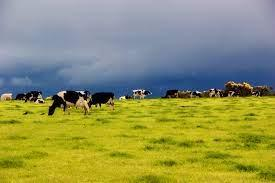cow: (48, 91, 91, 116), (87, 92, 115, 112), (25, 91, 44, 104), (132, 89, 153, 99), (161, 89, 179, 99), (208, 88, 224, 98), (0, 93, 12, 102), (119, 94, 133, 101), (190, 91, 203, 98), (227, 90, 240, 97), (15, 93, 26, 101), (251, 90, 262, 97)
